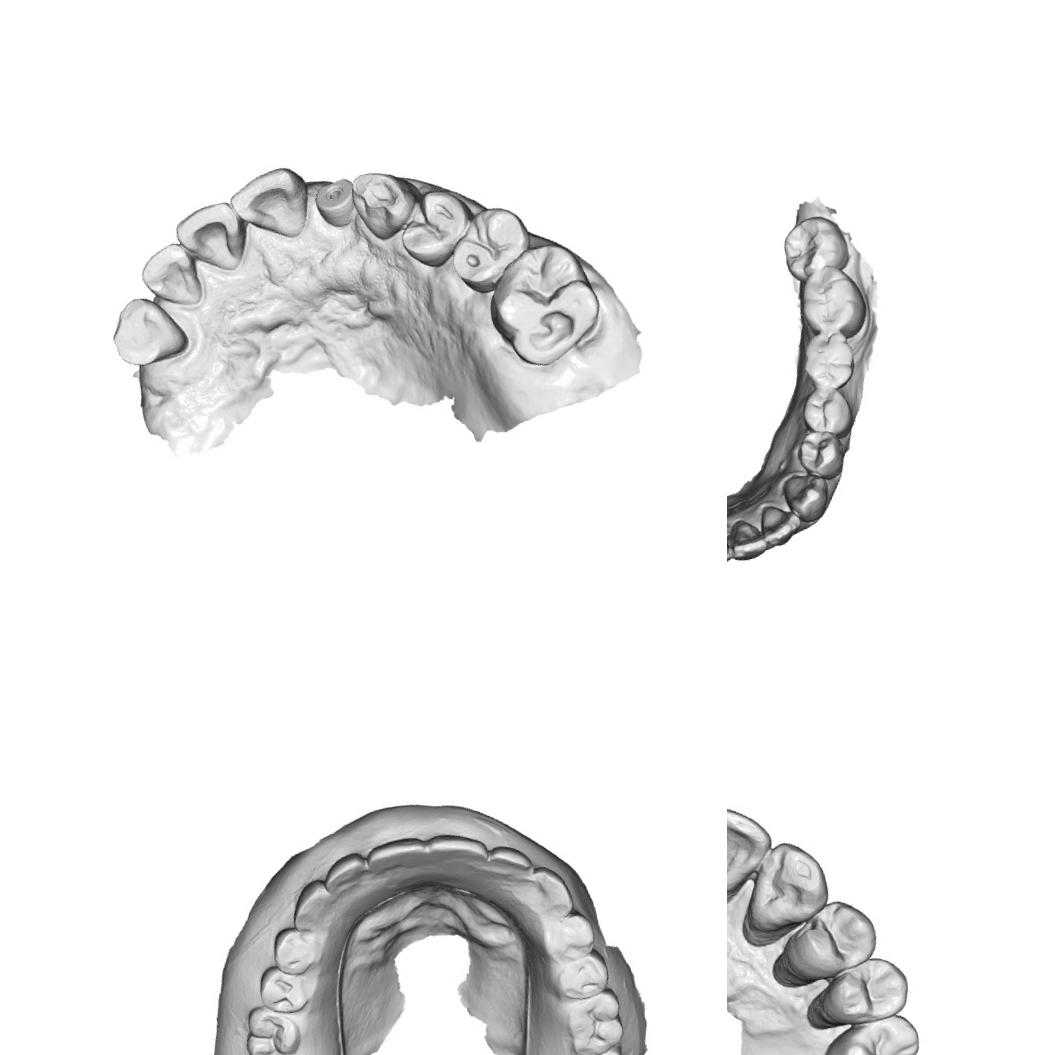canine: (742, 832, 833, 934), (102, 288, 192, 373), (348, 162, 424, 242), (282, 874, 343, 934), (777, 467, 834, 527), (521, 858, 576, 918)
implant: (310, 174, 361, 228)
incisor: (225, 160, 320, 246), (168, 196, 252, 280), (134, 238, 205, 311), (727, 796, 779, 893), (362, 829, 433, 881), (422, 822, 490, 875), (318, 846, 374, 900), (755, 498, 806, 552), (727, 513, 770, 564), (485, 837, 535, 880)
molar: (477, 234, 611, 377), (790, 263, 870, 345), (776, 209, 852, 281), (808, 1011, 931, 1055), (556, 982, 630, 1055), (237, 997, 308, 1055), (796, 328, 860, 392)
premolar: (776, 892, 880, 982), (441, 201, 534, 297), (813, 948, 917, 1032), (392, 182, 478, 271), (550, 944, 616, 1004), (795, 381, 857, 442), (252, 957, 313, 1019), (266, 920, 327, 980), (790, 424, 848, 484), (549, 906, 598, 956)
